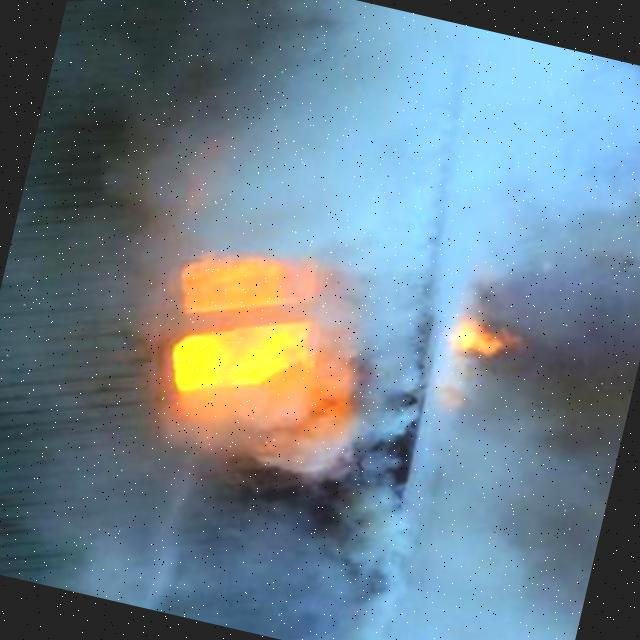fire: (118, 198, 378, 442), (427, 287, 548, 380)
